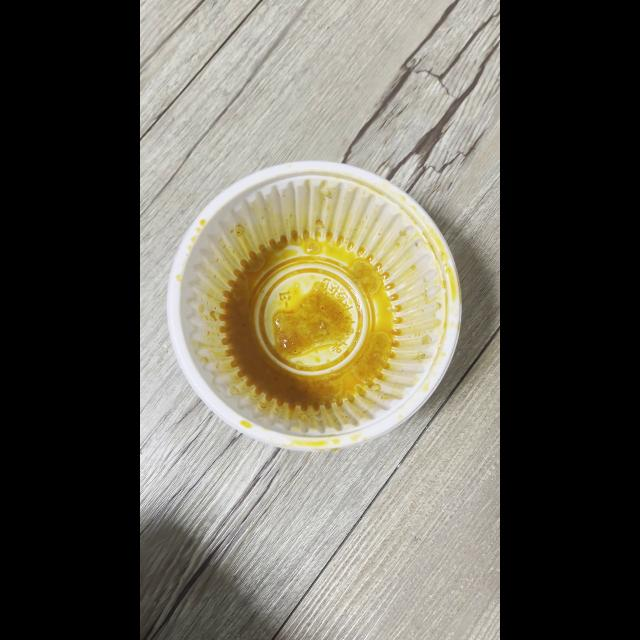dirty: (173, 160, 465, 458)
